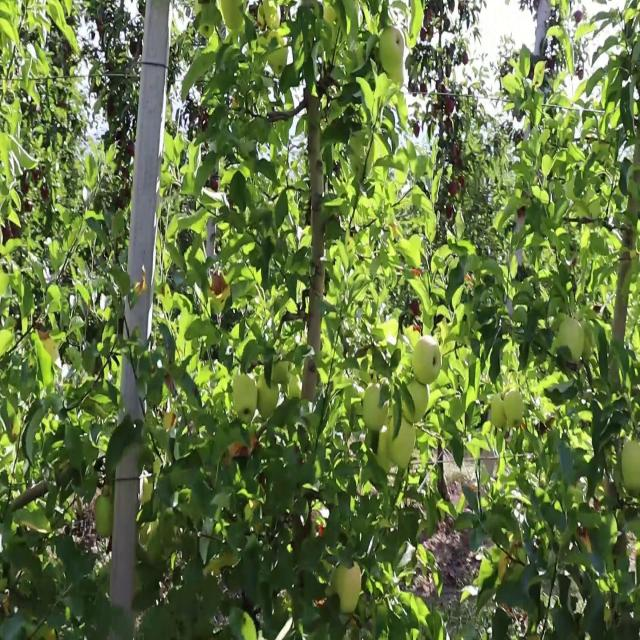apple: (336, 561, 363, 612), (212, 277, 229, 299), (580, 526, 592, 553), (136, 270, 148, 293), (4, 227, 20, 242), (8, 220, 20, 240), (164, 412, 176, 430), (412, 298, 420, 318), (516, 206, 527, 220), (40, 327, 50, 341), (452, 184, 460, 199), (448, 99, 456, 114), (212, 177, 220, 192), (32, 170, 40, 185), (168, 376, 175, 391), (200, 113, 208, 126), (452, 149, 461, 160), (424, 14, 432, 23), (448, 206, 453, 220), (460, 177, 465, 188), (320, 526, 324, 539), (464, 56, 469, 64), (24, 184, 29, 192), (44, 191, 48, 199)
